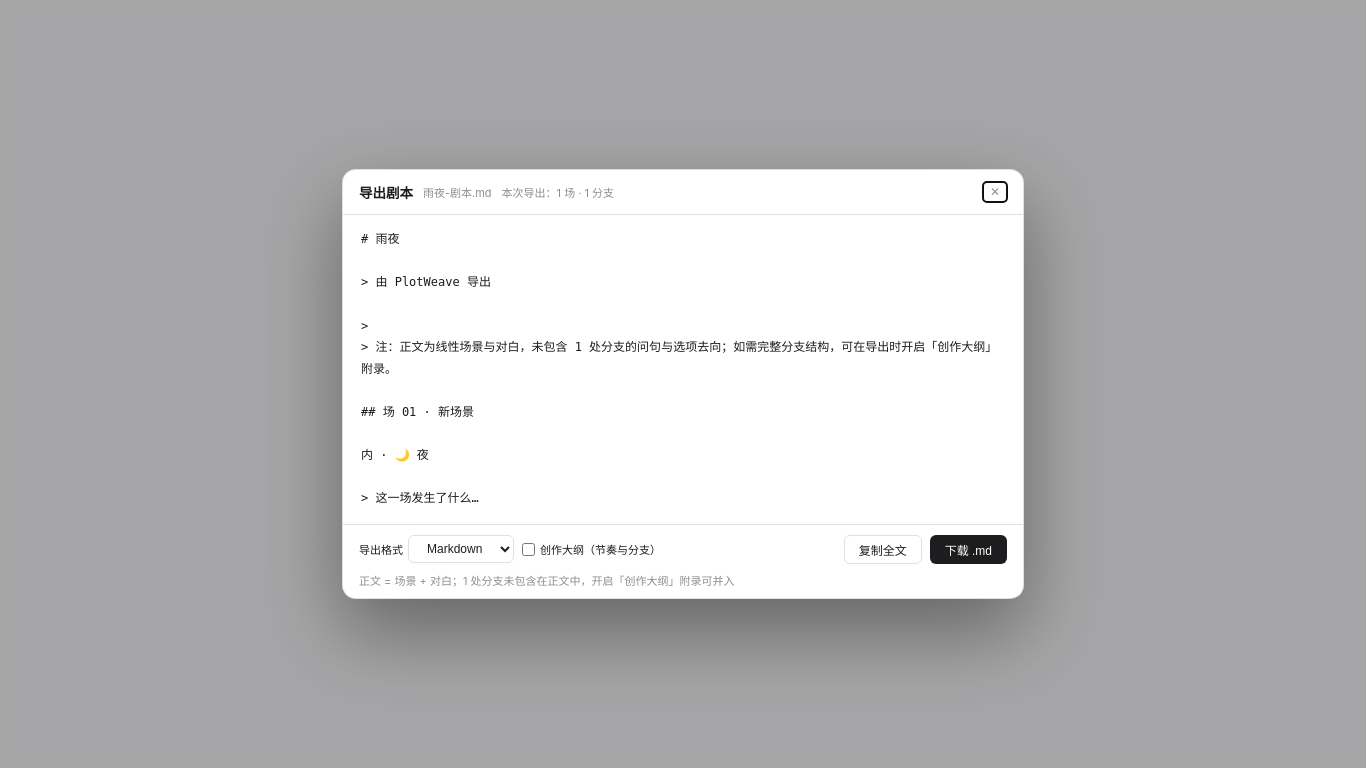
ExportDialog（含分支项目的告知，issue #361） › 既有叙事又有分支时，默认（大纲关）明示分支未包含；开启大纲后提示随态更新
Expected: the text "正文 = 场景 + 对白；1 处分支未包含在正文中，开启「创作大纲」附录可并入" is shown, [359, 574, 734, 588]
Step 1. Click the checkbox labelled "创作大纲（节奏与分支）" → click(528, 549), box [522, 543, 535, 556]
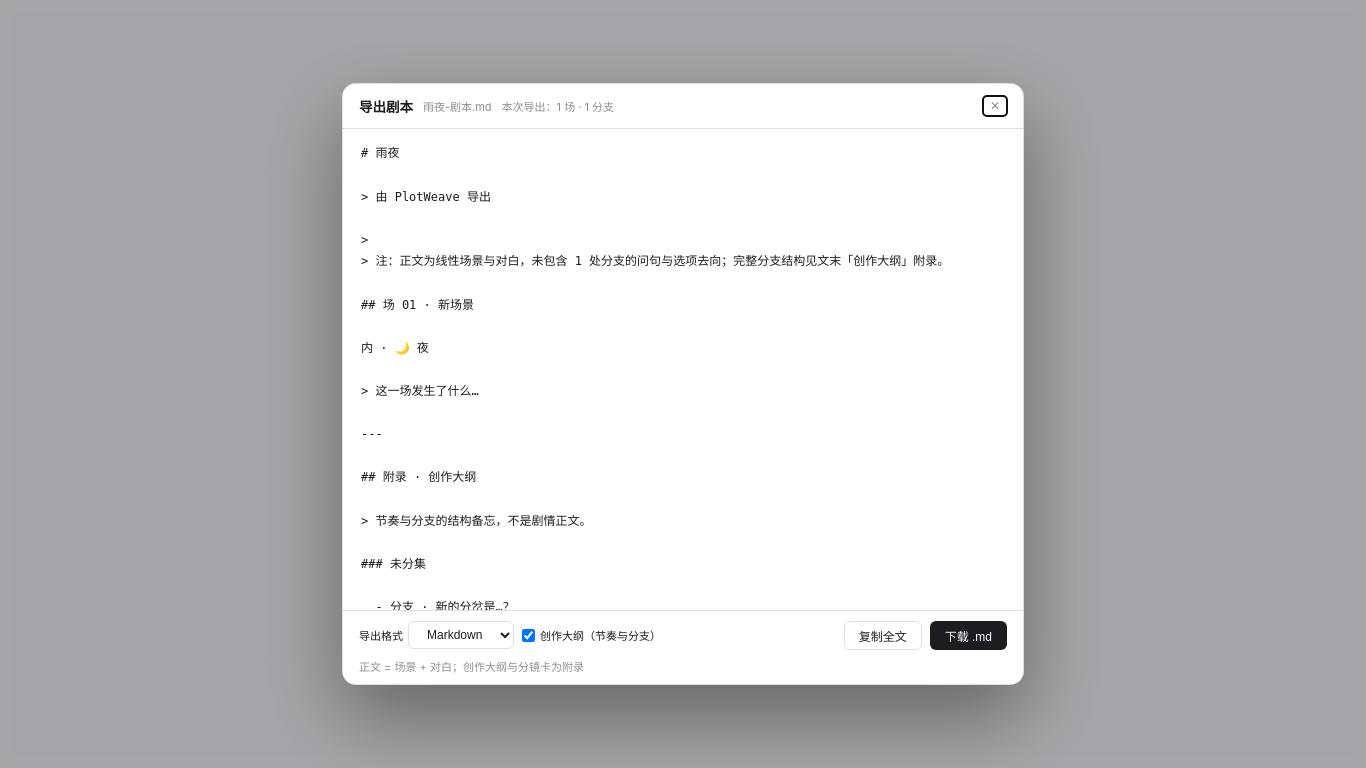
Now the text "正文 = 场景 + 对白；创作大纲与分镜卡为附录" is shown, box [359, 660, 584, 674]
